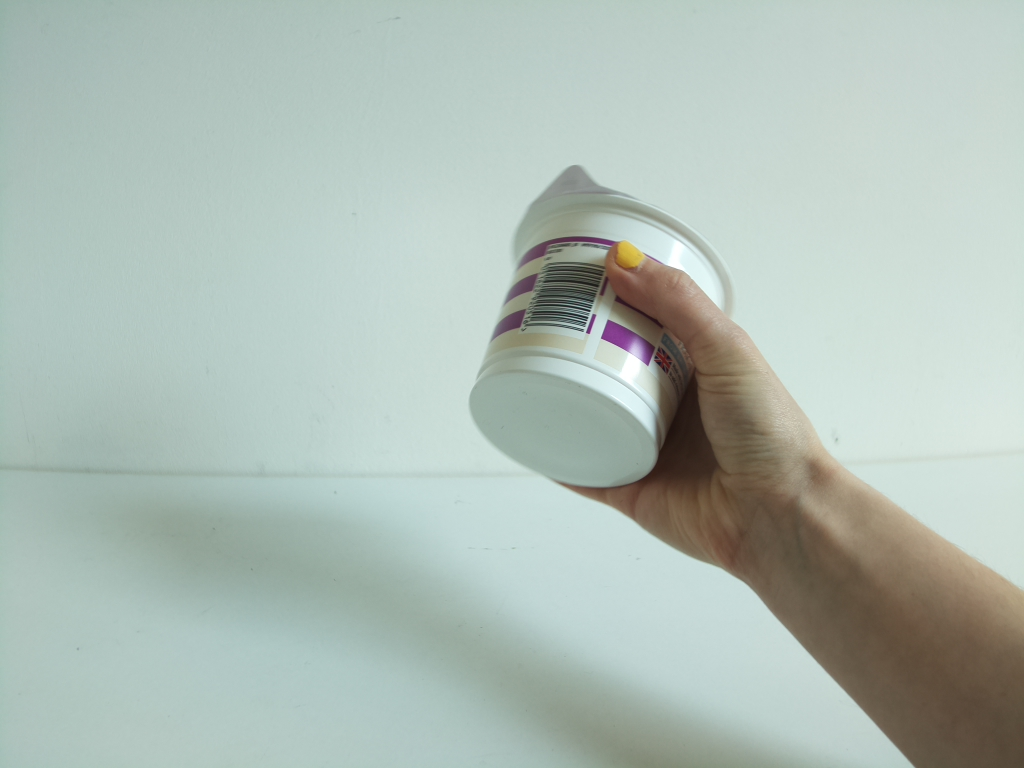cream: (463, 163, 726, 487)
